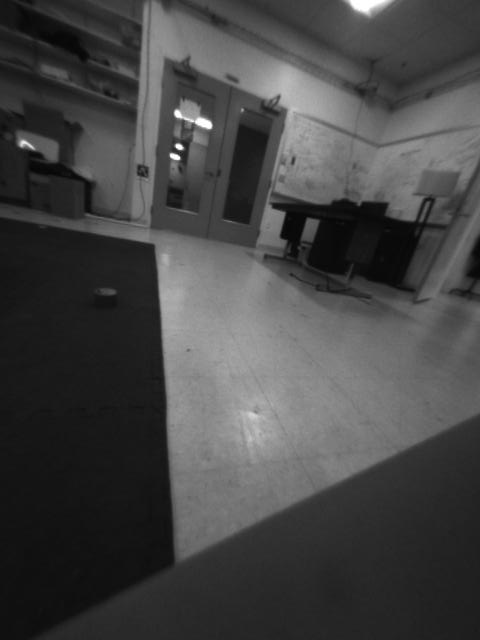dogtoy: (83, 274, 125, 320)
